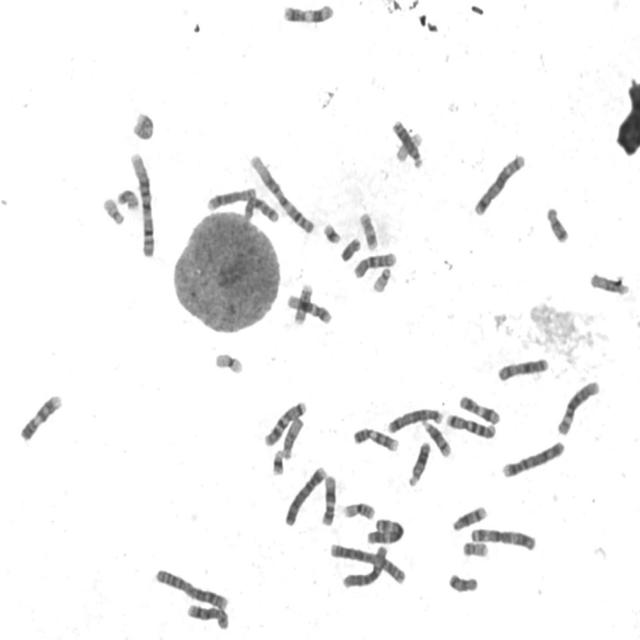A1: (246, 150, 317, 236), (126, 147, 157, 259)
A2: (151, 564, 231, 611), (326, 540, 407, 585)
A3: (467, 524, 538, 552), (363, 514, 406, 545)
B4: (498, 436, 566, 480), (281, 462, 327, 527)
B5: (470, 150, 528, 218), (385, 404, 445, 434)
C10: (351, 248, 398, 280), (241, 193, 280, 224)
C11: (456, 391, 502, 426), (280, 1, 336, 24)
C12: (284, 289, 334, 325), (318, 471, 338, 527)
C6: (554, 376, 602, 436), (339, 542, 389, 589)
C7: (260, 396, 308, 448), (443, 410, 498, 440)
C8: (204, 183, 258, 213), (184, 600, 230, 631)
C9: (16, 389, 63, 442), (350, 422, 400, 452)
D13: (388, 116, 425, 169), (405, 438, 432, 488)
D14: (419, 417, 452, 458), (449, 502, 488, 532)
D15: (586, 268, 631, 296), (279, 414, 305, 460)
E16: (290, 279, 314, 326), (339, 498, 376, 521)
E17: (356, 209, 380, 252), (128, 107, 156, 141)
E18: (542, 202, 571, 244), (445, 570, 480, 594)
F19: (211, 348, 245, 376), (394, 130, 422, 164)
F20: (114, 183, 140, 211), (459, 537, 490, 558)
G21: (319, 218, 342, 245), (269, 446, 286, 476)
G22: (99, 193, 126, 226), (369, 264, 393, 293)
X: (494, 353, 550, 382)
Y: (337, 233, 363, 262)
